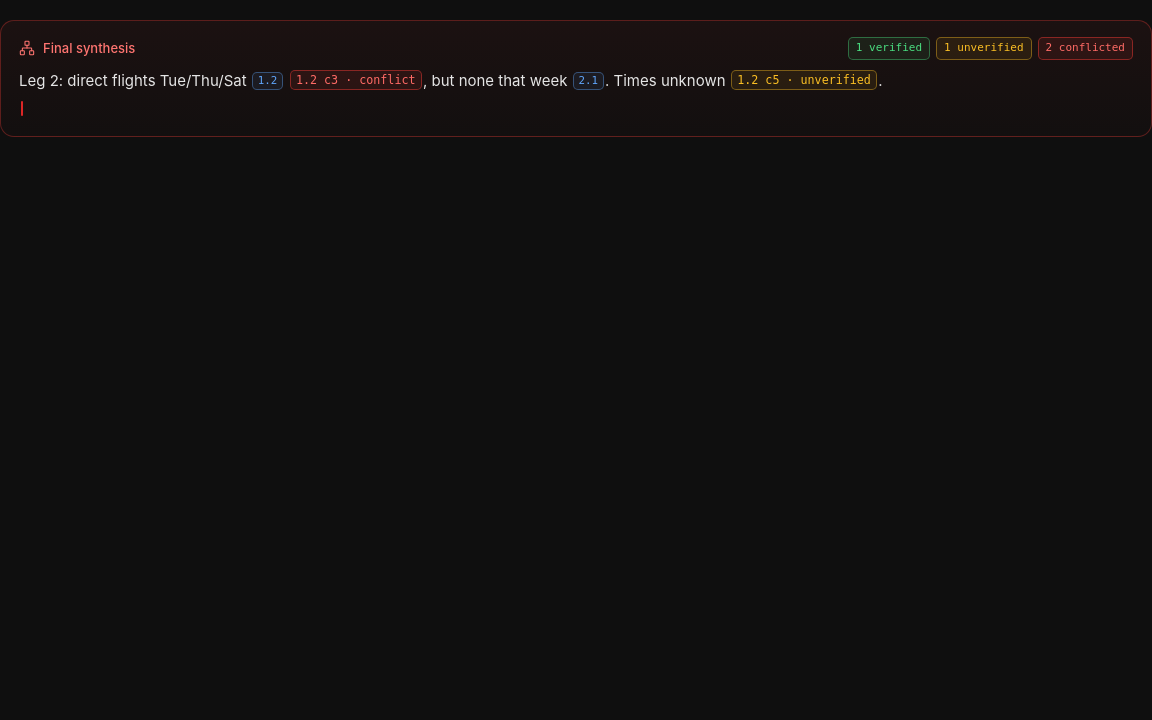
Test: ClaimsDrawer (spec B 7a) › filters: all / unverified only / conflicts; a row selects its claim
The image size is (1152, 720).
Click the link "1.2 c3 · conflict".
click(356, 80)  # box [290,70,422,90]
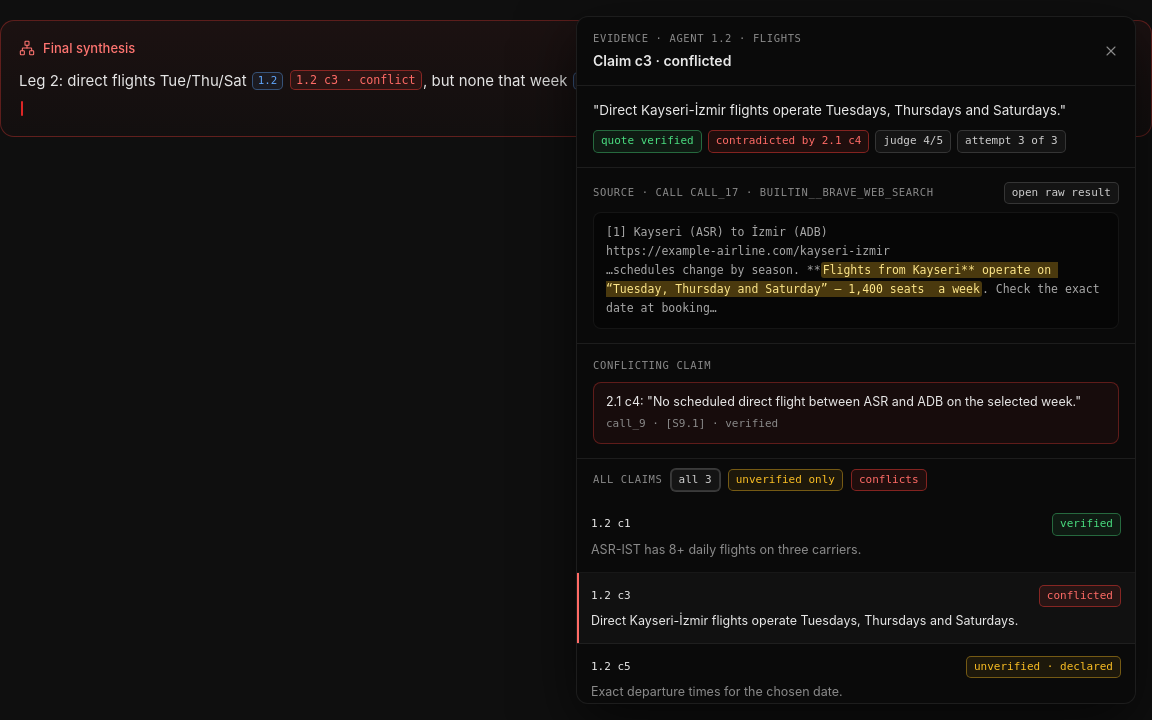
Now the button with test id "drawer-filter-all" reads "all 3", box [670,469,720,491]
Click the button with test id "drawer-filter-unverified".
click(785, 480)  # box [728,469,843,491]
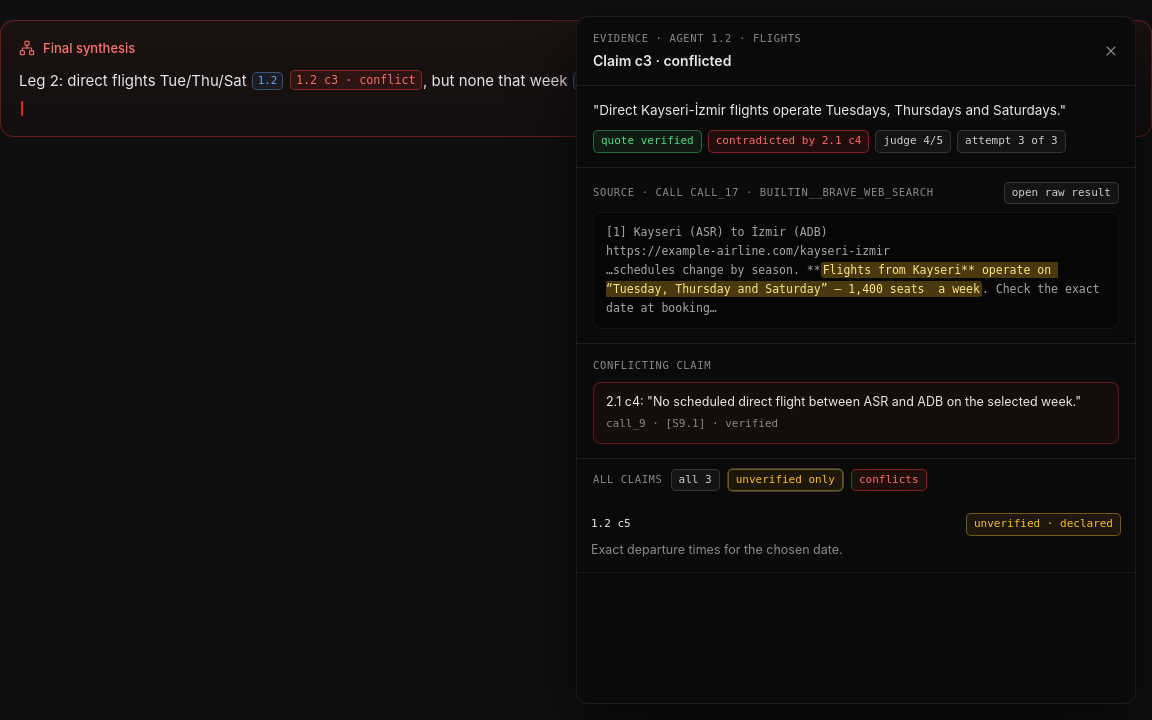
Click the button with test id "drawer-filter-conflicts".
click(889, 480)  # box [851,469,927,491]
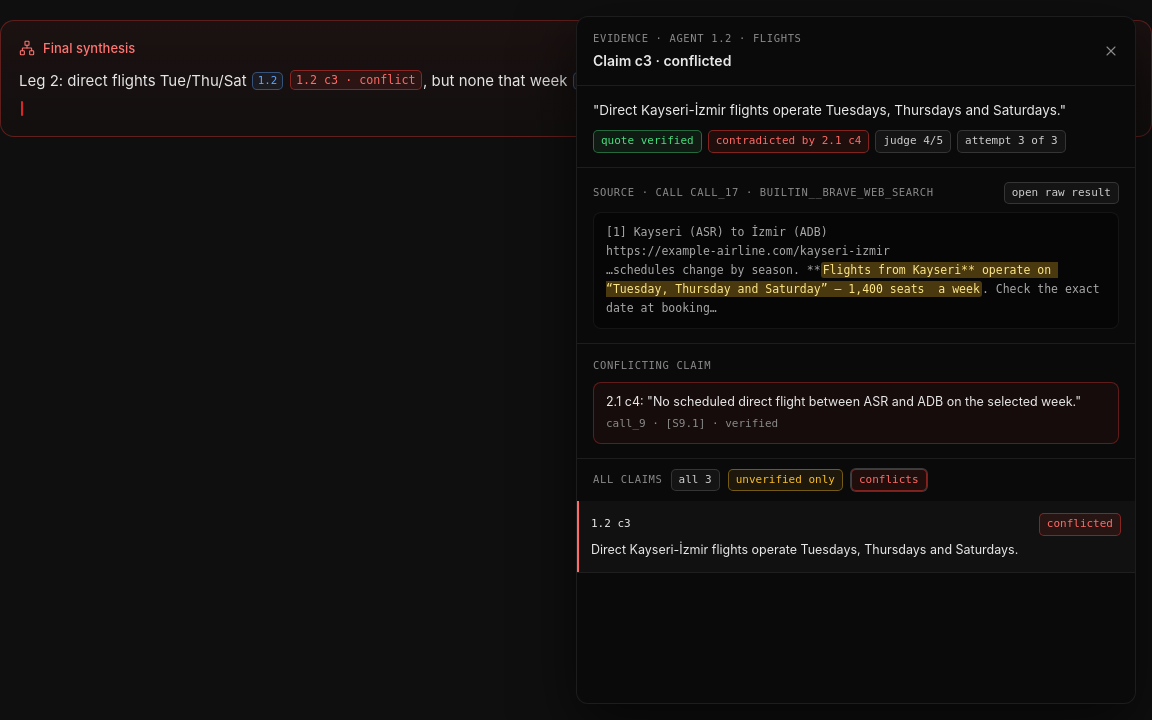
Click the button with test id "drawer-filter-all".
click(695, 480)  # box [670,469,720,491]
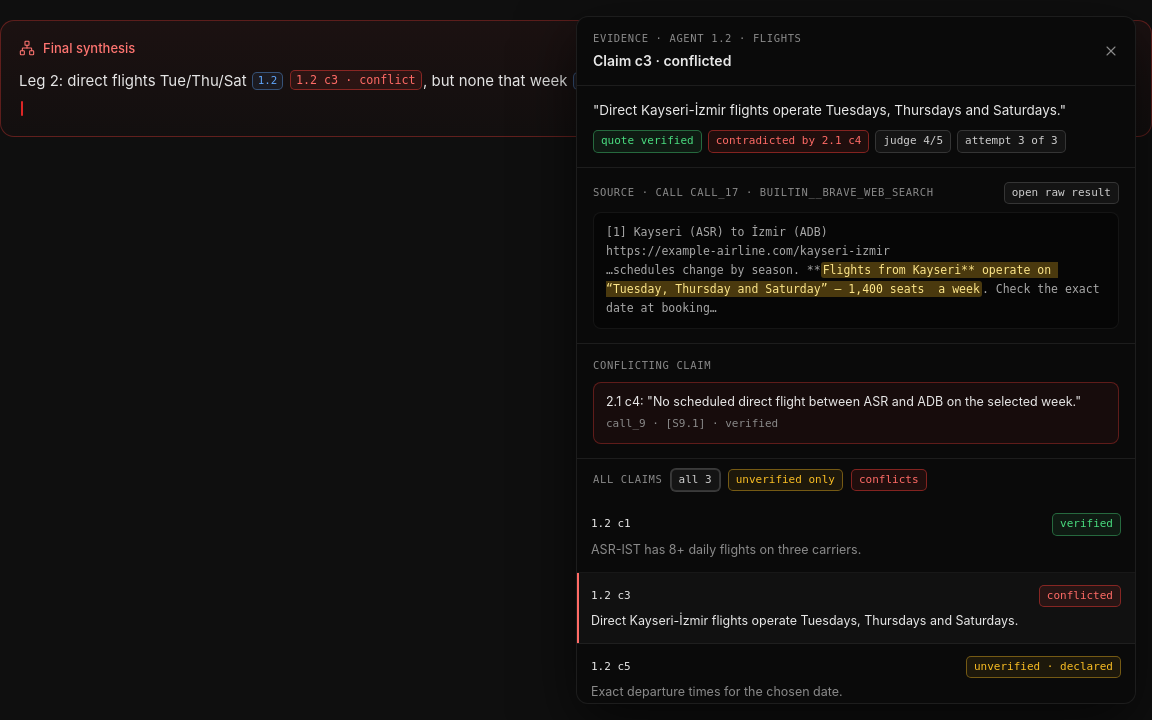
Click the button with test id "drawer-claim-row-1.2 c1".
click(611, 524)  # box [577,501,1135,573]
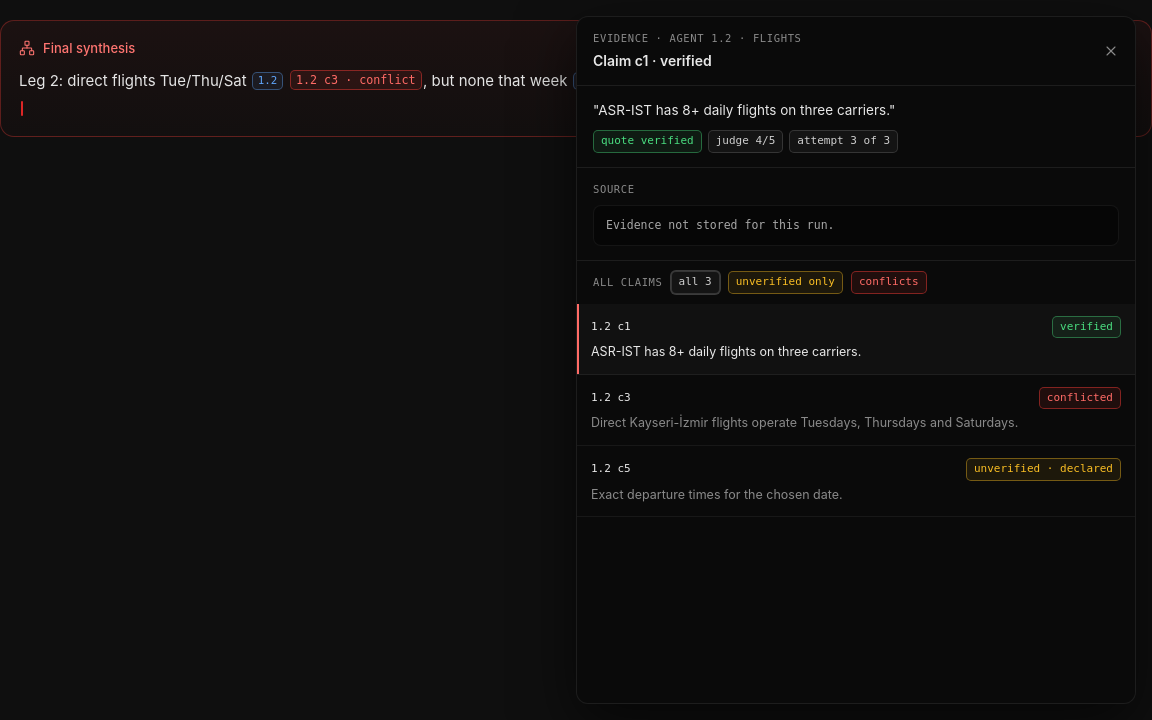
Now the text with test id "drawer-title" reads "Claim c1 · verified", box [593,52,712,69]
